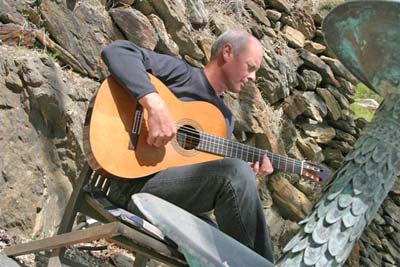guitar: (83, 73, 334, 186)
